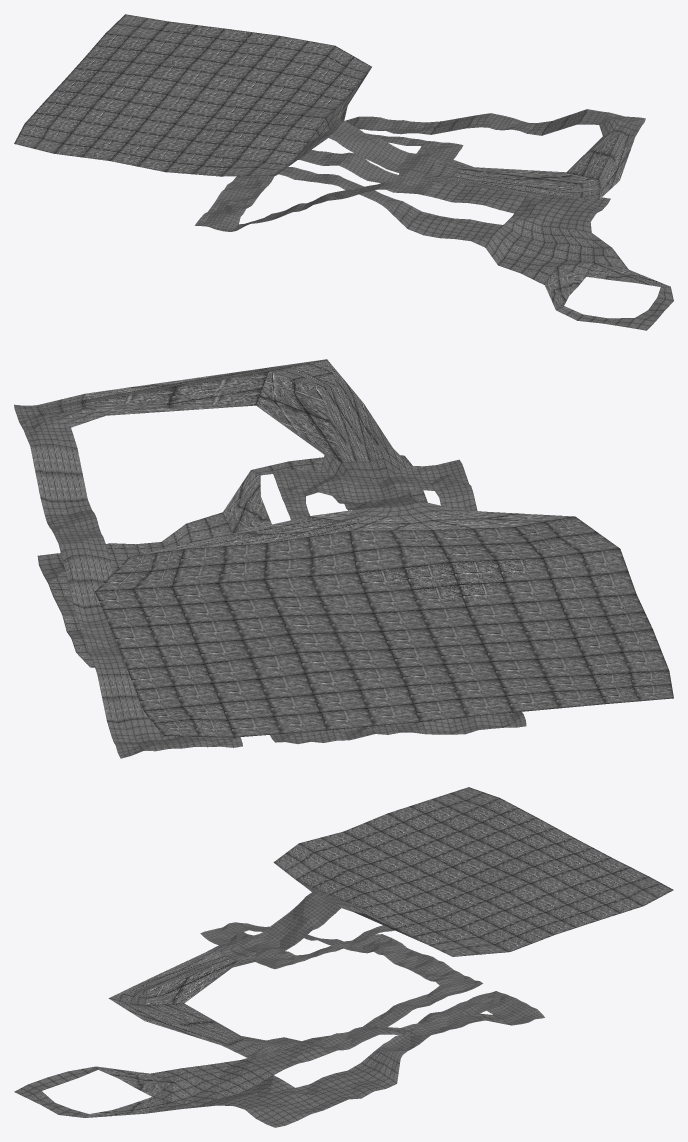
The model's file is dungeon_noised.obj.
3 renders of one model, top to bottom at view 1: azimuth 30°, elevation 25°; view 2: azimuth 150°, elevation 25°; view 3: azimuth 270°, elevation 25°, orthographic. The views are drawn at different scales.
Parts seen in each view (by area): view 1: Plane; view 2: Plane; view 3: Plane.
Boxes of the visible parts, x1=… form: Plane: x1=14, y1=14, x2=673, y2=330; Plane: x1=14, y1=359, x2=673, y2=758; Plane: x1=14, y1=787, x2=673, y2=1127.
Size of the model in its own units: 1506 by 340 by 1677.
Materials: 1 (1 with a texture image).
